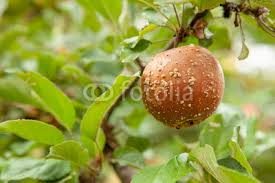damaged_apple: (138, 46, 225, 130)
